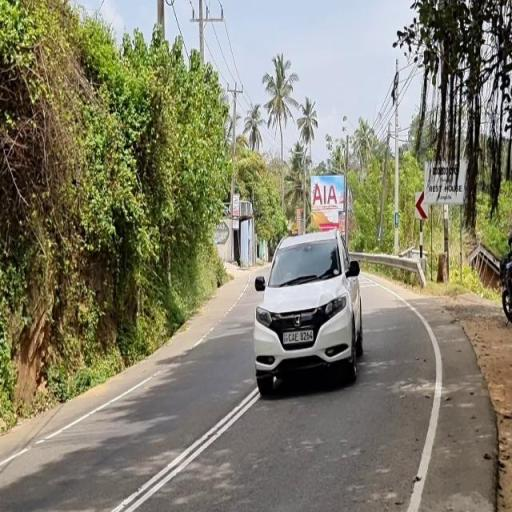double_white_line: (110, 388, 261, 511)
